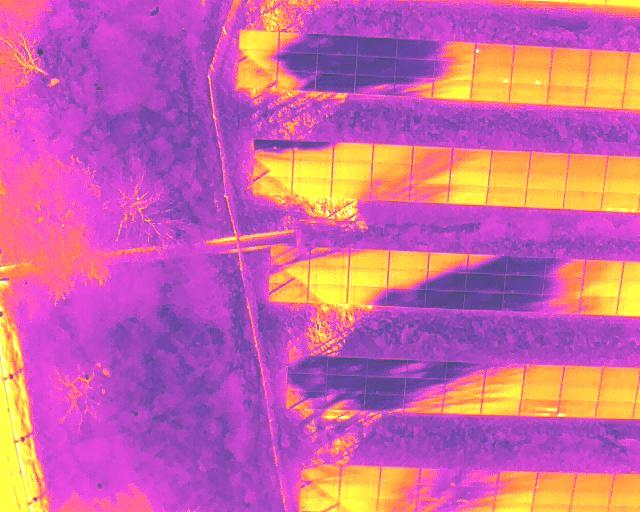Cell: (473, 62, 511, 83), (512, 64, 549, 85), (475, 43, 512, 62), (558, 401, 597, 418)
Cell-Multi: (602, 193, 640, 212), (519, 399, 557, 416)
No-Anomaly: (487, 188, 527, 208), (550, 67, 590, 87), (334, 141, 372, 162), (530, 151, 569, 171), (389, 251, 429, 270), (569, 155, 605, 176), (372, 144, 411, 163), (489, 169, 528, 188), (350, 249, 389, 268), (433, 80, 472, 99), (510, 85, 549, 104), (548, 86, 587, 105), (309, 266, 348, 285), (588, 68, 625, 88), (523, 366, 564, 384), (239, 32, 280, 50), (528, 172, 566, 191), (586, 89, 624, 108), (348, 269, 388, 287), (449, 186, 486, 205), (527, 190, 564, 209), (472, 84, 509, 103), (491, 150, 529, 168), (255, 159, 293, 177), (333, 162, 371, 180), (293, 180, 331, 198), (513, 46, 551, 64), (590, 50, 628, 68), (582, 278, 620, 296), (309, 285, 347, 303), (581, 297, 619, 315), (481, 398, 519, 416), (566, 175, 603, 193), (564, 367, 601, 385), (537, 472, 574, 490), (604, 174, 639, 193), (293, 162, 332, 179), (332, 181, 371, 198), (340, 465, 379, 482), (574, 473, 613, 490), (564, 192, 600, 210), (450, 168, 488, 185), (496, 486, 534, 503), (551, 49, 589, 66), (254, 178, 292, 195), (561, 385, 599, 402), (602, 368, 637, 386), (585, 260, 622, 277), (380, 466, 419, 482), (522, 384, 560, 400), (600, 387, 638, 403), (340, 483, 378, 499), (535, 490, 572, 506), (572, 490, 610, 505), (597, 403, 635, 418), (499, 470, 537, 485), (607, 156, 639, 173)
Shadowing: (271, 245, 310, 267), (372, 164, 411, 185), (238, 69, 278, 89), (452, 148, 490, 169), (435, 59, 473, 80), (294, 142, 333, 162), (411, 165, 450, 185), (412, 147, 452, 166), (277, 53, 317, 72), (544, 258, 584, 277), (428, 271, 466, 291), (288, 354, 326, 374), (327, 356, 367, 375), (317, 35, 357, 54), (395, 39, 435, 58), (254, 140, 293, 159), (311, 246, 350, 265), (388, 269, 427, 288), (270, 284, 309, 303), (327, 375, 366, 394), (406, 378, 445, 397), (357, 37, 396, 56), (371, 182, 409, 201), (468, 255, 506, 274), (357, 56, 395, 75), (388, 288, 426, 307), (239, 50, 279, 68), (317, 55, 357, 73), (347, 287, 387, 305), (367, 359, 407, 377), (446, 362, 486, 380), (279, 34, 319, 52), (430, 253, 469, 271), (396, 59, 435, 77), (316, 73, 355, 91), (356, 76, 395, 94), (271, 267, 310, 285), (287, 375, 326, 393), (366, 377, 405, 395), (301, 465, 340, 483), (436, 41, 475, 59), (409, 184, 447, 202), (278, 71, 316, 89), (506, 257, 544, 275), (467, 274, 505, 292), (505, 276, 543, 294), (407, 360, 445, 378), (544, 278, 583, 295), (484, 382, 523, 399), (395, 78, 433, 95), (426, 291, 464, 308), (465, 291, 503, 308), (486, 365, 524, 382), (445, 382, 483, 399), (287, 393, 327, 409), (443, 399, 483, 415), (420, 468, 460, 484), (379, 483, 419, 499), (420, 484, 459, 500), (365, 395, 404, 411), (404, 397, 443, 413), (300, 483, 339, 499), (327, 394, 365, 410), (504, 294, 543, 309), (543, 295, 581, 310), (460, 470, 498, 485), (459, 486, 496, 500)
